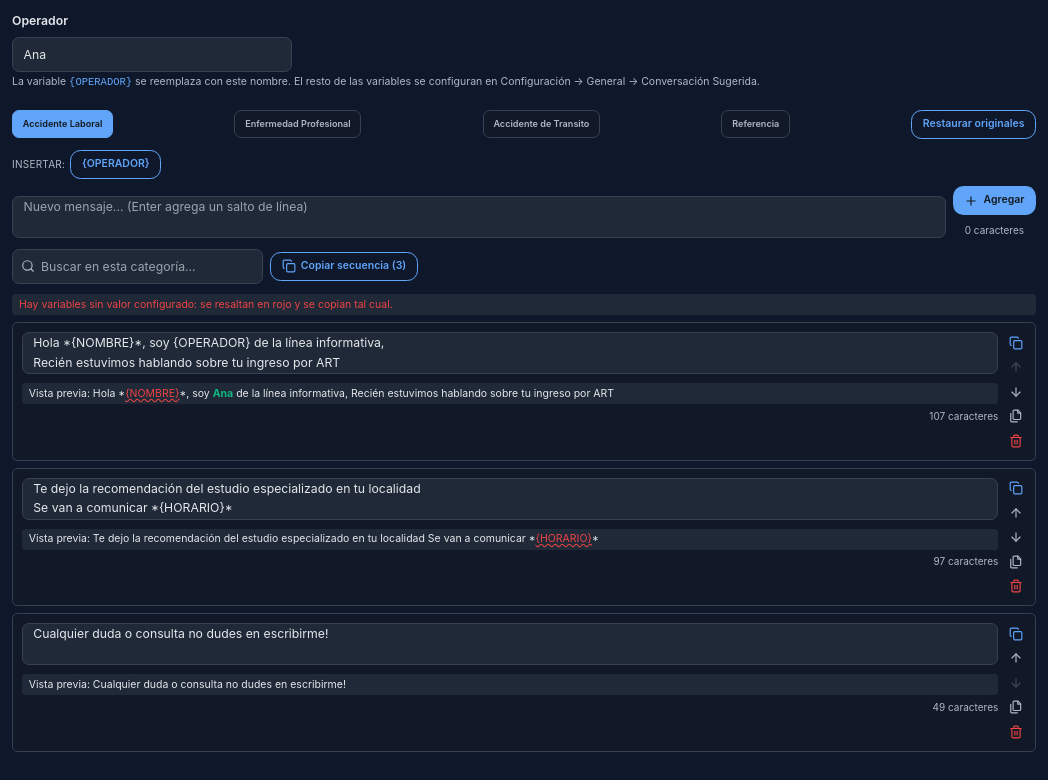
ConversacionesSugeridasView (1.9.6) › el chip {OPERADOR} inserta la llave en el textarea de alta
The image size is (1048, 780).
Click the button "{OPERADOR}". click: (116, 164)
box: [70,150,161,179]
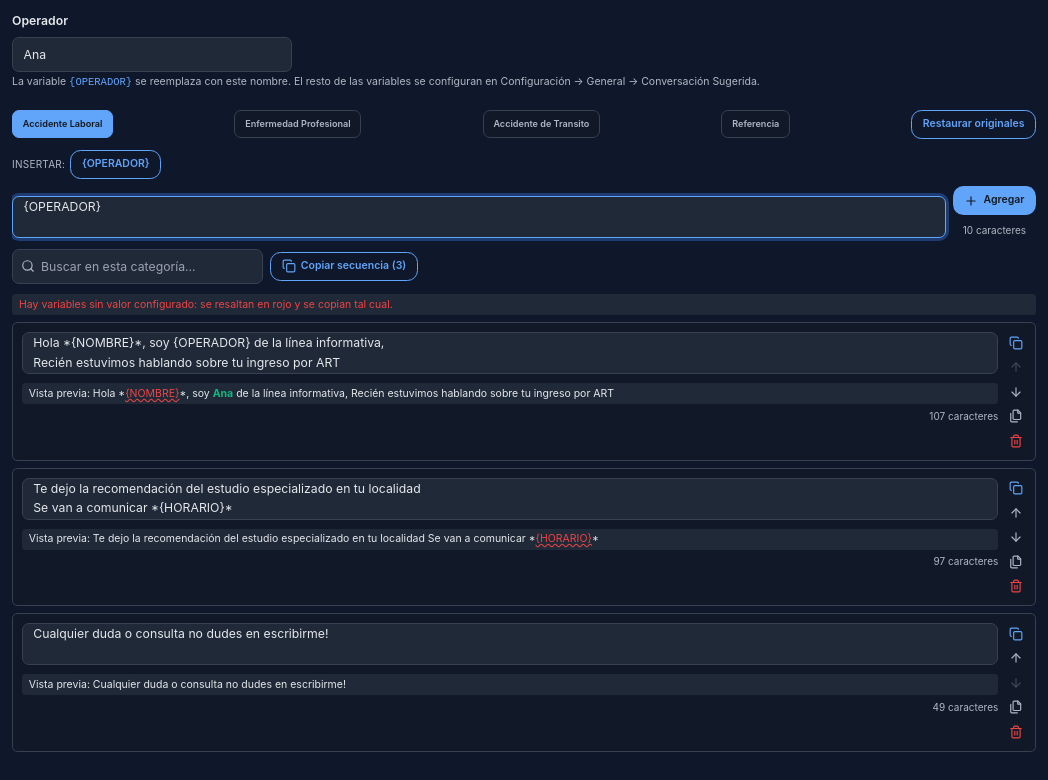
Expected: the 1st text box with placeholder "Nuevo mensaje... (Enter agrega un salto de línea)" holds "{OPERADOR}", [12,196,946,238]
